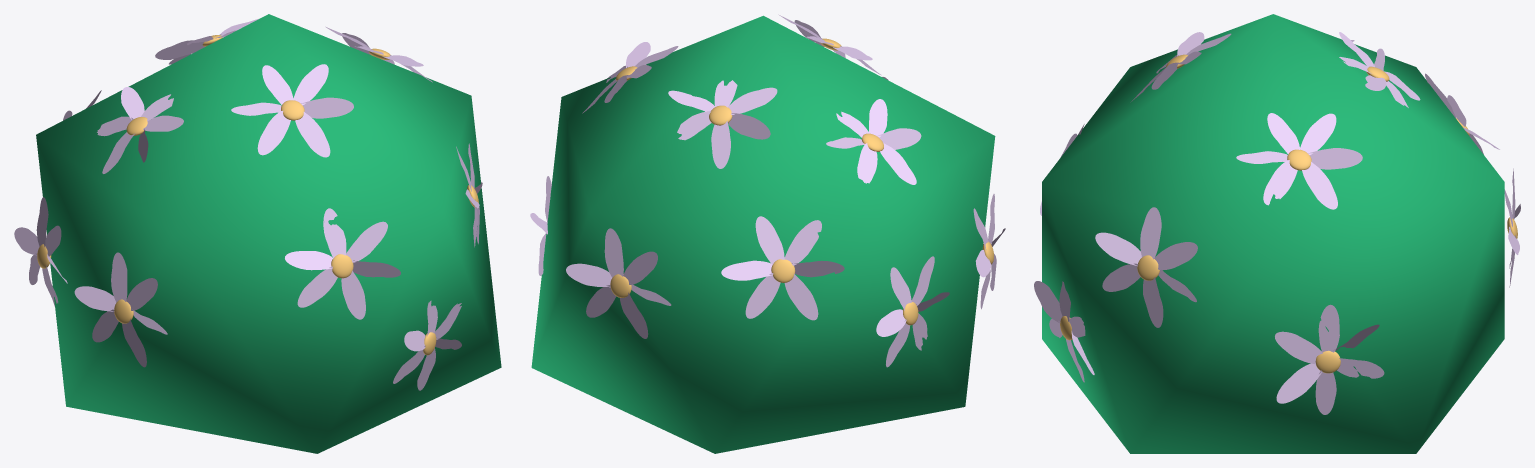
The model's file is bloemenstruik2.fbx.
The picture shows the model from 3 angles, left to right: view 1: azimuth 30°, elevation 25°; view 2: azimuth 150°, elevation 25°; view 3: azimuth 270°, elevation 25°; orthographic projection. The views are drawn at different scales.
Visible parts, largest first — view 1: Icosphere.004, Circle.112, Circle.002, Circle.109, Circle.110, Circle.005, Circle.006, Circle.113, Circle.004, Circle.045, Circle.001, Circle.048 (+10 smaller); view 2: Icosphere.004, Circle.056, Circle.055, Circle.059, Circle.060, Circle.058, Circle.033, Circle.054, Circle.050, Circle.036, Circle.051, Circle.035 (+12 smaller); view 3: Icosphere.004, Circle.016, Circle.028, Circle.009, Circle.025, Circle.013, Circle.012, Circle.014, Circle.029, Circle.026, Circle.011, Circle.017 (+6 smaller).
Boxes of the visible parts, left/top/right/bottom form: Icosphere.004: left=36, top=14, right=501, bottom=453; Circle.112: left=301, top=97, right=353, bottom=118; Circle.002: left=346, top=221, right=387, bottom=262; Circle.109: left=295, top=112, right=330, bottom=157; Circle.110: left=257, top=111, right=290, bottom=155; Circle.005: left=297, top=266, right=337, bottom=307; Circle.006: left=341, top=270, right=365, bottom=319; Circle.113: left=293, top=64, right=328, bottom=105; Circle.004: left=285, top=251, right=332, bottom=270; Circle.045: left=74, top=286, right=116, bottom=311; Circle.001: left=323, top=208, right=346, bottom=258; Circle.048: left=111, top=252, right=127, bottom=302; Icosphere.004: left=531, top=15, right=995, bottom=453; Circle.056: left=784, top=220, right=821, bottom=265; Circle.055: left=755, top=216, right=784, bottom=265; Circle.059: left=745, top=273, right=780, bottom=318; Circle.060: left=784, top=274, right=818, bottom=320; Circle.058: left=721, top=260, right=772, bottom=280; Circle.033: left=566, top=263, right=611, bottom=287; Circle.054: left=711, top=121, right=730, bottom=168; Circle.050: left=728, top=87, right=777, bottom=114; Circle.036: left=604, top=228, right=623, bottom=277; Circle.051: left=728, top=113, right=770, bottom=139; Circle.035: left=623, top=251, right=657, bottom=284; Icosphere.004: left=1042, top=14, right=1504, bottom=453; Circle.016: left=1276, top=363, right=1322, bottom=403; Circle.028: left=1308, top=148, right=1362, bottom=169; Circle.009: left=1095, top=232, right=1141, bottom=266; Circle.025: left=1302, top=162, right=1337, bottom=209; Circle.013: left=1275, top=331, right=1322, bottom=364; Circle.012: left=1140, top=207, right=1161, bottom=259; Circle.014: left=1318, top=304, right=1339, bottom=352; Circle.029: left=1300, top=113, right=1336, bottom=154; Circle.026: left=1263, top=160, right=1297, bottom=205; Circle.011: left=1154, top=242, right=1197, bottom=270; Circle.017: left=1315, top=370, right=1336, bottom=414.
Bounding box in the file's own units: 107 × 86.4 × 106.
